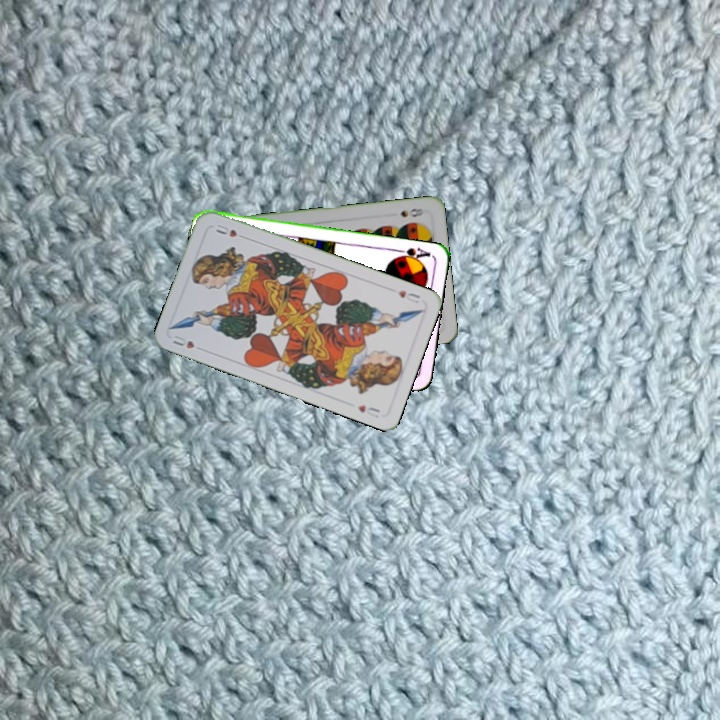HU: (169, 331, 197, 352), (394, 286, 422, 306)
S8: (396, 204, 426, 220)
SA: (392, 244, 433, 265)
